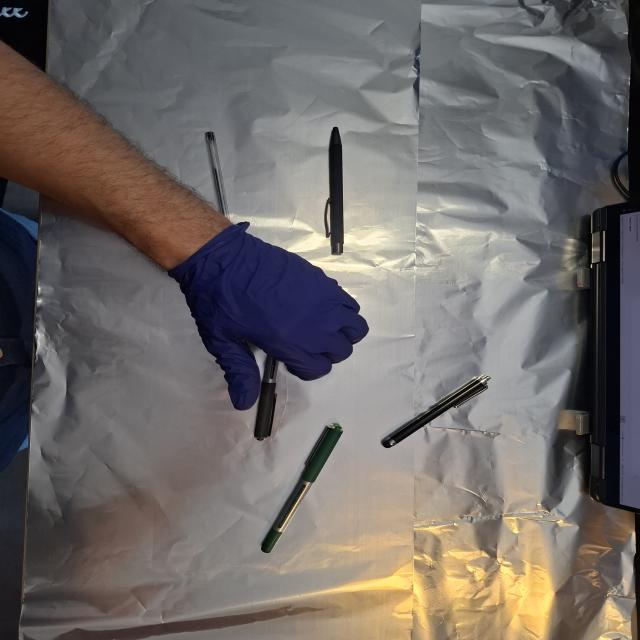glove_on: (171, 228, 374, 413)
